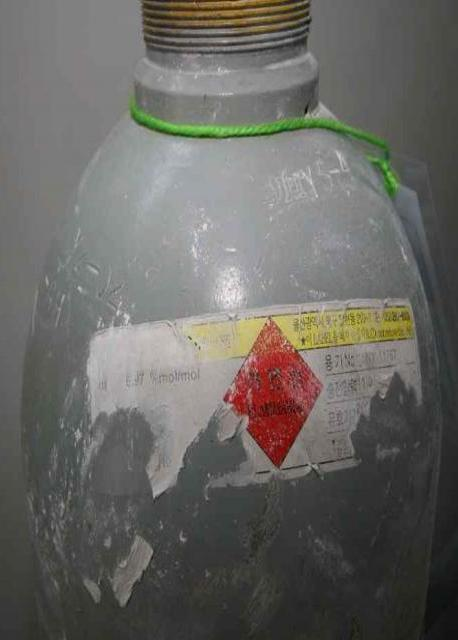cylinder: (1, 0, 458, 640)
